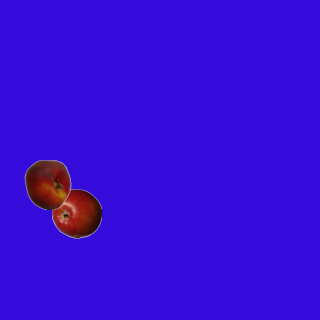Apple Braeburn: (51, 188, 101, 238)
Nectarine Flat: (22, 159, 72, 209)
